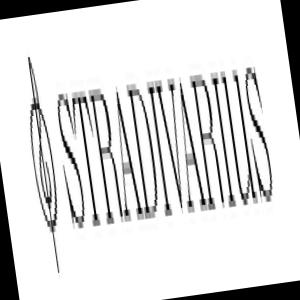stradivarius: (9, 0, 288, 296)
